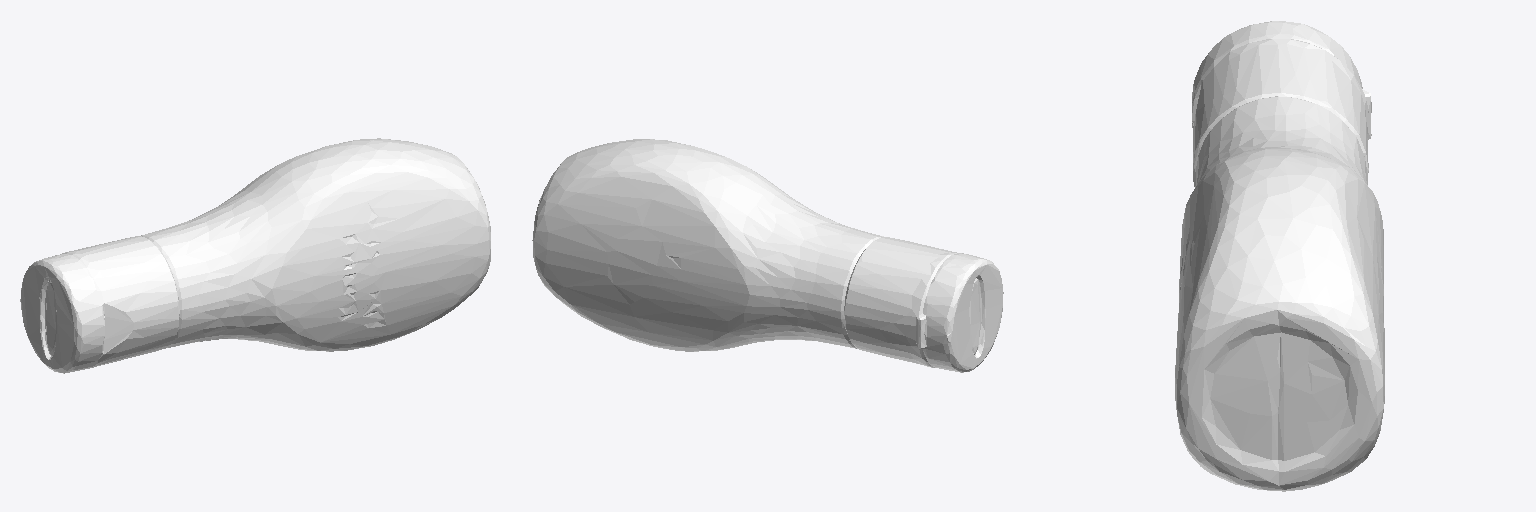
robot.urdf — myfirst:
<?xml version="1.0"?>
 <robot name="myfirst">
   <material name="light_green">
     <color rgba="0 1 0.498 1"/>
   </material>
   <material name="coral">
     <color rgba="1 0.498 0.3137 1"/>
   </material>
   <link name="SaladDressing">
     <visual>
       <geometry>
         <!-- <box size="0.16 0.21343700408935547 0.061"/> -->
         <mesh filename="SaladDressing.obj" scale="1 1 1"/>
       </geometry>
       <!-- <material name="light_green"/> -->
       <material name="white">
         <color rgba="1. 1. 1. 1."/>
       </material>
       <origin xyz="0 0 0" rpy="0 0 0"/>
     </visual>
     <inertial>
       <mass value="0.5"/>
       <inertia ixx="1.0" ixy="0.0" ixz="0.0" iyy="1.0" iyz="0.0" izz="1.0"/>
     </inertial>
     <collision>
       <geometry>
         <mesh filename="SaladDressing.obj" scale="1 1 1"/>
       </geometry>
       <origin xyz="0 0 0" rpy="0 0 0"/>
     </collision>
   </link>

   
 </robot>

--- What the picture shows (computed from the rendered views, not written in the file) ---
The picture shows the robot from 3 angles, left to right: view 1: azimuth 30°, elevation 25°; view 2: azimuth 150°, elevation 25°; view 3: azimuth 270°, elevation 25°; orthographic projection.
Robot: myfirst — 1 links, 0 joints (none); root link SaladDressing; default pose: all joints at 0.
Visible links, largest first — view 1: SaladDressing; view 2: SaladDressing; view 3: SaladDressing.
Link boxes in pixels (x1,y1,x2,y2): SaladDressing: (20,138,490,373); SaladDressing: (532,139,1003,372); SaladDressing: (1175,21,1384,491).
Size in the robot's own frame: 0.1474 by 0.0438 by 0.064 metres.
1 mesh visuals loaded from 1 distinct referenced files (1 OBJ).